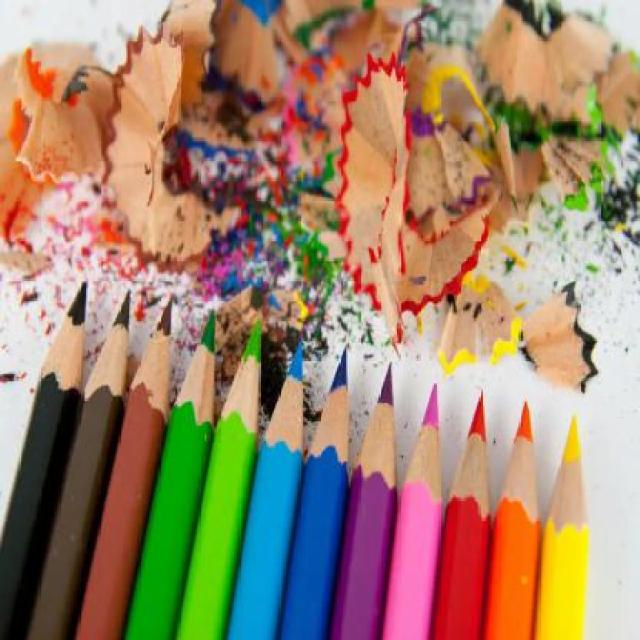pencil: (26, 286, 135, 640), (74, 290, 175, 640), (0, 276, 91, 639), (122, 305, 215, 639), (175, 316, 261, 640), (225, 339, 305, 640), (277, 343, 349, 640), (331, 359, 398, 640), (379, 379, 443, 640), (432, 386, 492, 640), (482, 396, 541, 640), (533, 413, 592, 640)
